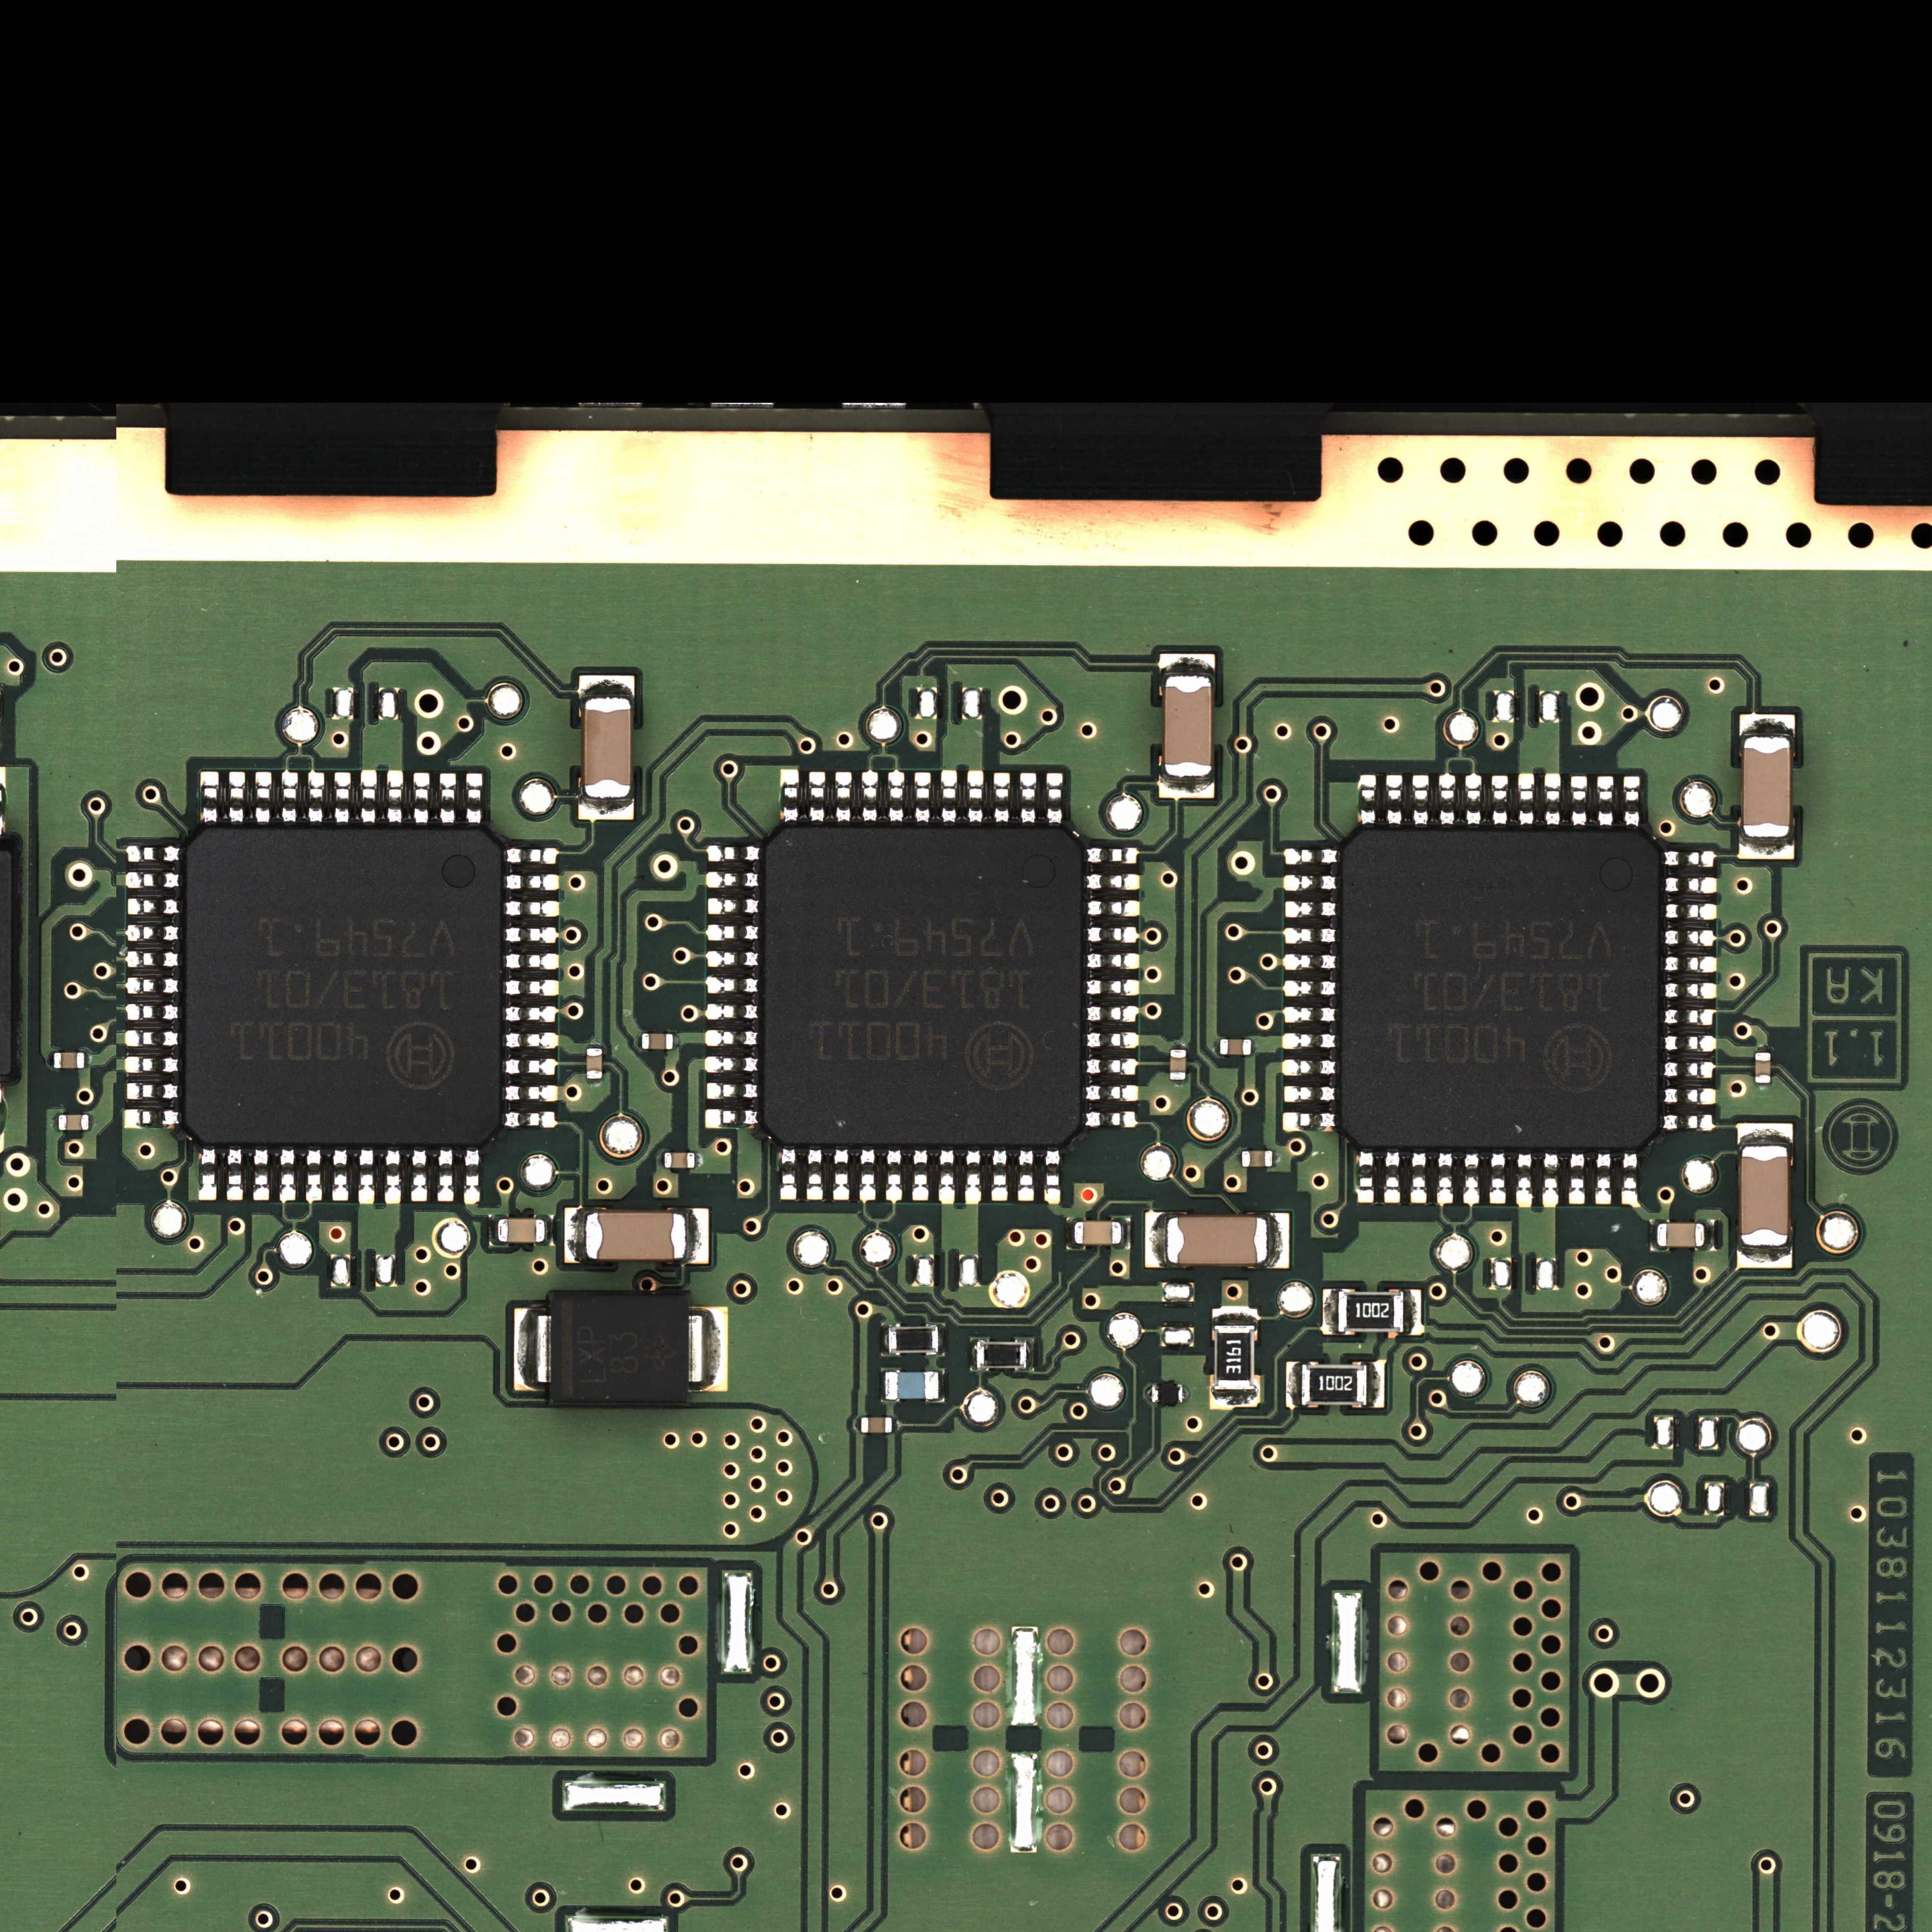Package: (759, 824, 1085, 1146), (180, 824, 502, 1146), (1339, 828, 1661, 1150), (552, 1293, 690, 1403), (1168, 1215, 1267, 1265), (586, 1212, 686, 1260), (1164, 676, 1212, 777), (584, 699, 632, 798), (1743, 738, 1790, 837), (1741, 1146, 1789, 1246), (1302, 1364, 1368, 1405), (1214, 1325, 1254, 1391), (1338, 1292, 1403, 1332), (885, 1371, 938, 1399), (888, 1327, 938, 1353), (977, 1343, 1026, 1368), (1658, 1223, 1704, 1247), (497, 1219, 545, 1242), (1074, 1221, 1122, 1244), (1152, 1385, 1184, 1403), (1242, 1150, 1272, 1168), (53, 1053, 85, 1069), (860, 1417, 892, 1433), (58, 1115, 88, 1131), (665, 1152, 695, 1168), (642, 1033, 672, 1049), (1169, 1049, 1185, 1079), (1221, 1039, 1251, 1054), (1755, 1053, 1771, 1083), (587, 1049, 602, 1079)
Solder: (690, 1307, 727, 1392), (513, 1309, 550, 1391), (579, 798, 635, 821), (686, 1208, 709, 1265), (1159, 653, 1215, 676), (1737, 1246, 1792, 1269), (579, 676, 635, 697), (1159, 777, 1215, 798), (1269, 1212, 1290, 1269), (1145, 1212, 1166, 1269), (1739, 715, 1796, 736), (1737, 1123, 1794, 1145), (1739, 839, 1794, 860), (124, 1109, 180, 1129), (564, 1207, 584, 1263), (126, 870, 180, 890), (126, 844, 180, 863), (504, 952, 559, 971), (704, 1108, 759, 1127), (126, 924, 179, 943), (127, 897, 180, 916), (706, 1081, 759, 1100), (1086, 872, 1139, 892), (1086, 925, 1139, 945), (1283, 1111, 1336, 1131), (1663, 1033, 1716, 1053), (1283, 847, 1339, 865), (124, 1030, 179, 1047), (780, 768, 798, 823), (504, 901, 559, 918), (706, 844, 761, 862), (504, 927, 559, 945), (938, 1150, 955, 1205), (704, 1056, 759, 1074), (704, 1030, 759, 1047), (504, 1031, 559, 1049), (504, 978, 559, 996), (704, 1003, 759, 1021), (504, 1085, 559, 1102), (1283, 874, 1338, 892), (1283, 954, 1338, 971), (1283, 927, 1338, 945), (1281, 1031, 1336, 1049), (1281, 1058, 1336, 1076), (1085, 1085, 1139, 1102), (1621, 1152, 1638, 1207), (1210, 1389, 1260, 1408), (126, 950, 179, 968), (410, 1150, 428, 1203), (126, 1083, 179, 1100), (126, 1056, 179, 1074), (126, 1003, 179, 1021), (126, 977, 179, 994), (506, 874, 559, 892), (706, 870, 759, 888), (706, 950, 759, 968), (506, 847, 559, 865), (706, 924, 759, 941), (706, 977, 759, 994), (504, 1111, 557, 1129), (504, 1058, 557, 1076), (504, 1005, 557, 1023), (1086, 847, 1139, 865), (966, 770, 984, 823), (1086, 899, 1139, 916), (1086, 952, 1139, 970), (1086, 978, 1139, 996), (1283, 980, 1336, 998), (1086, 1031, 1139, 1049), (1086, 1005, 1139, 1023), (991, 1150, 1008, 1203), (1283, 1007, 1336, 1024), (1283, 1085, 1336, 1102), (1663, 851, 1716, 869), (1465, 773, 1483, 826), (1661, 1113, 1714, 1131), (1663, 1088, 1716, 1106), (1665, 955, 1718, 973), (708, 897, 759, 915), (1412, 775, 1430, 826), (1046, 773, 1063, 824), (1019, 773, 1037, 824), (1284, 901, 1336, 918), (1086, 1058, 1138, 1076), (1357, 1152, 1375, 1203), (1665, 876, 1716, 893), (1665, 902, 1716, 920), (1665, 929, 1716, 947), (1663, 1062, 1714, 1079), (1665, 982, 1716, 1000), (1663, 1008, 1714, 1026), (464, 1148, 479, 1205), (384, 1148, 400, 1205), (359, 1148, 375, 1205), (1359, 775, 1376, 824), (1385, 775, 1403, 824), (306, 1148, 322, 1203), (200, 1146, 216, 1201), (437, 1148, 453, 1203), (280, 1148, 295, 1203), (860, 1148, 876, 1203), (966, 1150, 982, 1205), (1044, 1150, 1060, 1205), (1516, 1154, 1532, 1208), (1543, 1154, 1559, 1208), (414, 771, 430, 824), (255, 771, 271, 824), (334, 771, 350, 824), (202, 771, 218, 824), (361, 770, 377, 823), (387, 770, 403, 823), (226, 1148, 242, 1201), (253, 1148, 269, 1201), (862, 770, 878, 823), (888, 770, 904, 823), (941, 770, 957, 823), (780, 1148, 796, 1201), (886, 1150, 902, 1203), (807, 1148, 823, 1201), (833, 1148, 849, 1201), (913, 1150, 929, 1203), (1017, 1150, 1033, 1203), (1410, 1152, 1426, 1205), (1212, 1307, 1260, 1325), (1085, 1111, 1138, 1127), (1368, 1361, 1385, 1408), (1518, 773, 1534, 826), (1438, 773, 1454, 826), (1624, 775, 1640, 828), (1545, 773, 1560, 826), (1490, 1152, 1506, 1205), (1437, 1154, 1453, 1207), (1463, 1154, 1479, 1207), (441, 773, 456, 824), (281, 771, 297, 823), (465, 773, 481, 824), (308, 771, 324, 823), (228, 771, 244, 823), (333, 1150, 349, 1201), (809, 771, 824, 823), (835, 771, 851, 823), (915, 771, 931, 823), (1384, 1152, 1399, 1203), (1571, 775, 1587, 826), (1491, 775, 1507, 826), (1569, 1154, 1585, 1205), (1596, 1154, 1612, 1205), (1405, 1290, 1422, 1336), (994, 773, 1010, 823), (1598, 777, 1614, 826), (1322, 1290, 1338, 1336), (1286, 1362, 1300, 1408), (1706, 1219, 1716, 1249), (1122, 1217, 1131, 1249), (1026, 1339, 1035, 1371), (1649, 1219, 1658, 1251), (488, 1215, 497, 1246), (545, 1215, 554, 1246), (939, 1323, 947, 1355), (881, 1323, 888, 1355), (1067, 1217, 1074, 1249), (939, 1371, 947, 1401), (970, 1339, 977, 1369), (879, 1369, 885, 1399), (656, 1152, 665, 1168), (633, 1033, 642, 1049), (1272, 1150, 1281, 1166), (51, 1113, 58, 1132), (88, 1113, 96, 1131), (85, 1051, 92, 1069), (46, 1051, 53, 1069), (586, 1079, 603, 1086), (1169, 1042, 1187, 1049), (1169, 1079, 1187, 1086), (1184, 1385, 1191, 1403), (1145, 1385, 1152, 1403), (586, 1040, 603, 1047), (695, 1152, 702, 1168), (674, 1033, 681, 1049), (855, 1417, 862, 1433), (892, 1417, 899, 1433), (1235, 1150, 1242, 1166), (1212, 1039, 1219, 1054), (1251, 1039, 1258, 1054), (1755, 1046, 1771, 1053), (1755, 1083, 1771, 1090)
